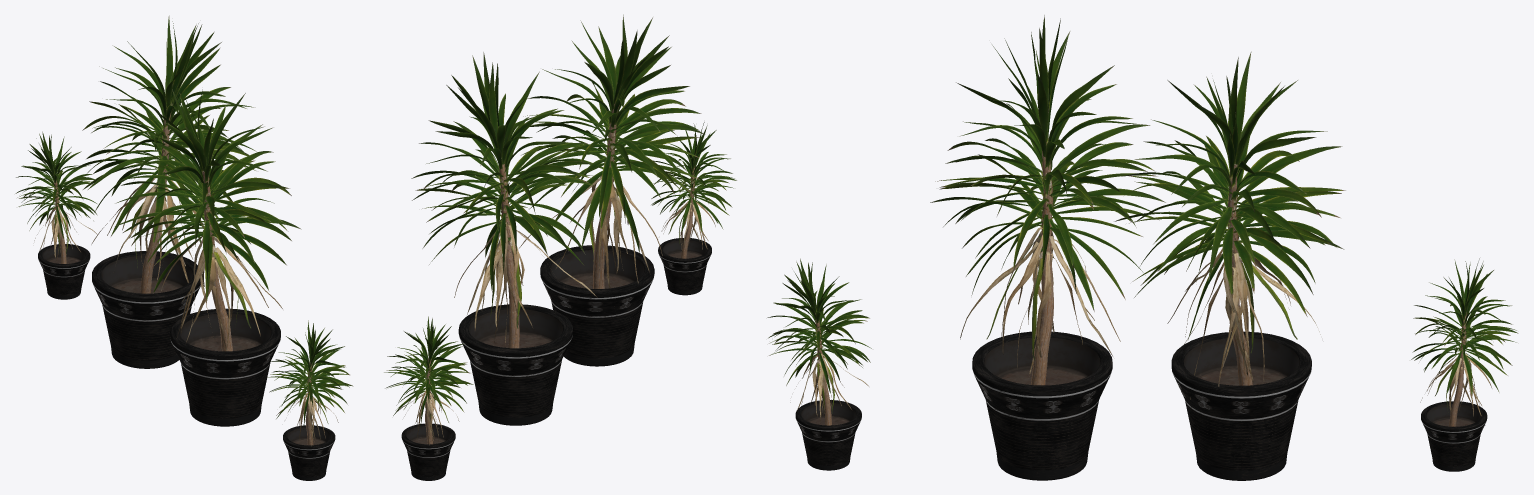
File: flower_pot_vase_-_31mb.glb
3 views of the same model, side by side, from view 1: azimuth 30°, elevation 25°; view 2: azimuth 150°, elevation 25°; view 3: azimuth 270°, elevation 25° (orthographic). The views are drawn at different scales.
Visible parts, largest first — view 1: 02_2_02_0, 02_3_02_0, flower_pot, flower_pot_2, 02_4_02_0, 02_5_02_0, flower_pot_3, flower_pot_4; view 2: 02_3_02_0, 02_2_02_0, flower_pot_2, flower_pot, 02_5_02_0, 02_4_02_0, flower_pot_3, flower_pot_4; view 3: 02_3_02_0, 02_2_02_0, flower_pot, flower_pot_2, 02_4_02_0, 02_5_02_0, flower_pot_4, flower_pot_3.
Boxes of the visible parts, x1,y1,x2,y2 form: 02_2_02_0: (115,89,301,351); 02_3_02_0: (71,15,256,298); flower_pot: (170,308,280,426); flower_pot_2: (92,251,202,368); 02_4_02_0: (267,320,353,453); 02_5_02_0: (15,131,97,263); flower_pot_3: (283,425,335,480); flower_pot_4: (38,244,90,299); 02_3_02_0: (411,52,597,348); 02_2_02_0: (519,14,705,306); flower_pot_2: (458,304,572,425); flower_pot: (540,245,654,366); 02_5_02_0: (384,316,473,444); 02_4_02_0: (651,122,736,258); flower_pot_3: (658,238,711,295); flower_pot_4: (401,423,455,480); 02_3_02_0: (1114,51,1345,399); 02_2_02_0: (930,15,1165,385); flower_pot: (972,331,1112,480); flower_pot_2: (1171,331,1311,480); 02_4_02_0: (767,258,871,425); 02_5_02_0: (1411,258,1518,426); flower_pot_4: (1421,401,1487,471); flower_pot_3: (795,400,861,470).
Bounding box in the file's own units: 1.19 × 2.08 × 3.37.
2 materials, 2 textured.
